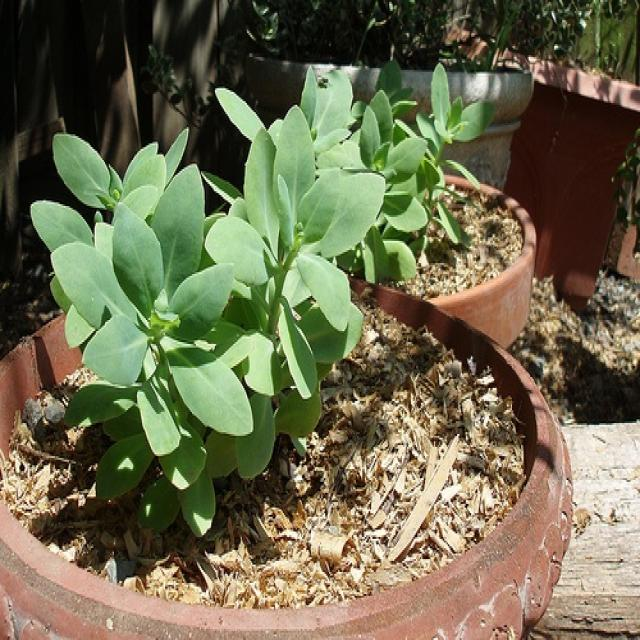pottedplant: (0, 103, 575, 638), (214, 60, 536, 348), (382, 0, 638, 307)
